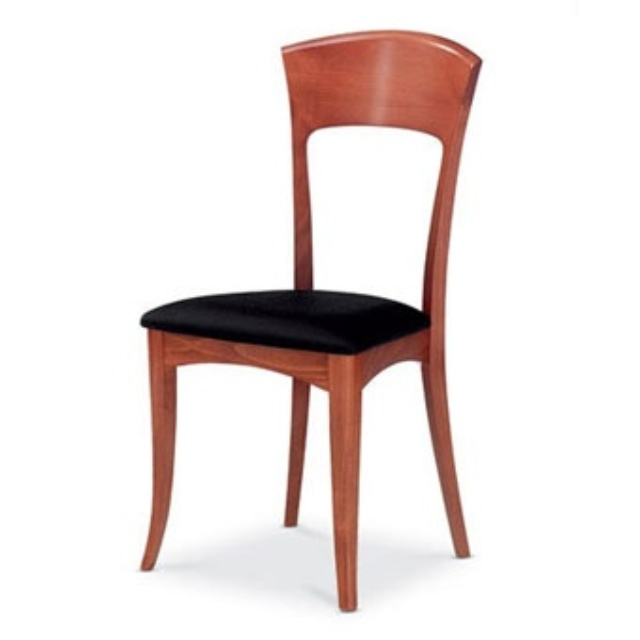obstacle: (141, 30, 480, 610)
